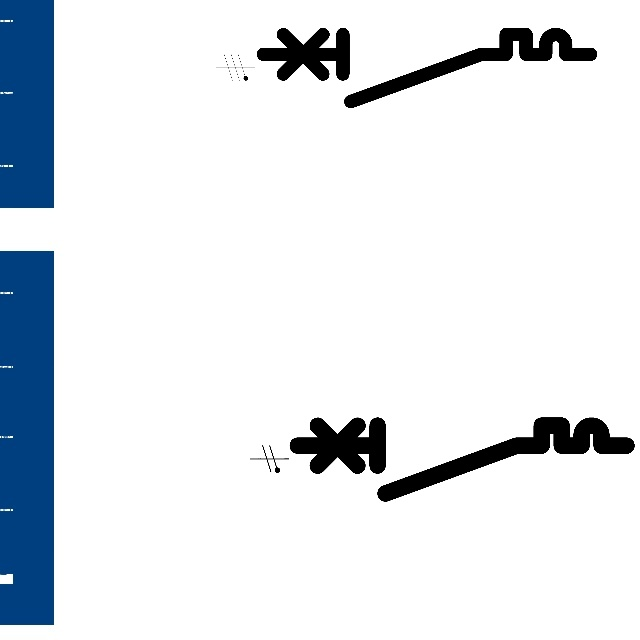interruptor_termomagnetico: (289, 417, 635, 501), (254, 26, 598, 110)
